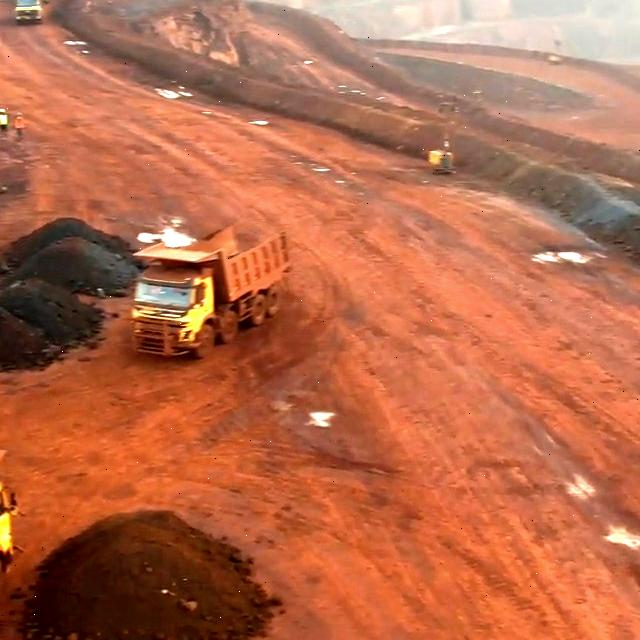Dumper truck: (136, 251, 239, 342)
person: (13, 111, 26, 139), (0, 108, 10, 134)
